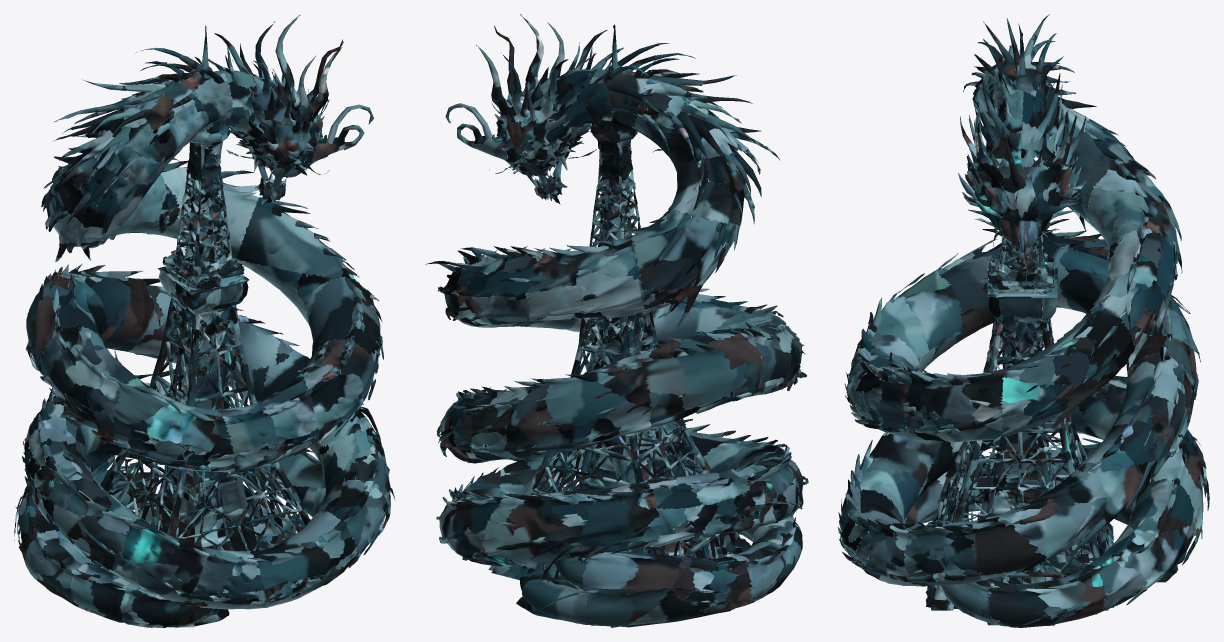
File: optimizedTokyoDragon.obj
The picture shows the model from 3 angles, left to right: view 1: azimuth 30°, elevation 25°; view 2: azimuth 150°, elevation 25°; view 3: azimuth 270°, elevation 25°; orthographic projection.
Parts seen in each view (by area): view 1: tmpafdhh2obobj; view 2: tmpafdhh2obobj; view 3: tmpafdhh2obobj.
Boxes of the visible parts, bbox=[...] form: tmpafdhh2obobj: bbox=[14, 14, 395, 627]; tmpafdhh2obobj: bbox=[425, 14, 808, 627]; tmpafdhh2obobj: bbox=[837, 14, 1209, 627].
Size of the model in its own units: 0.6545 by 0.9996 by 0.6241.
